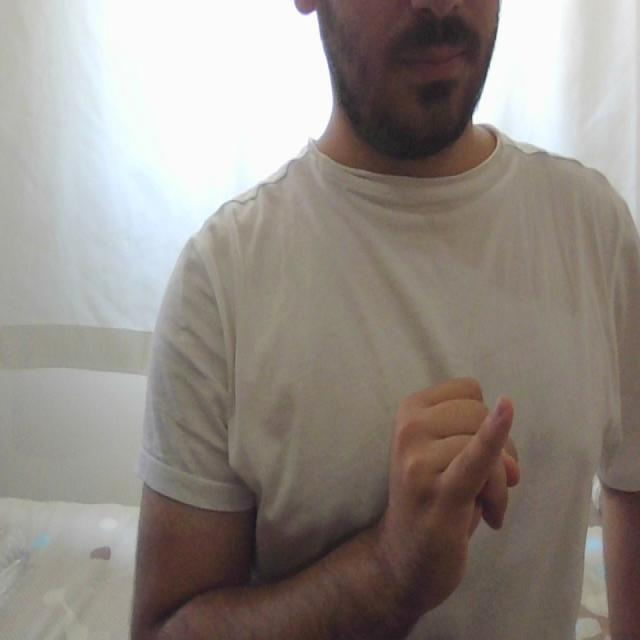kotu: (384, 359, 529, 552)
